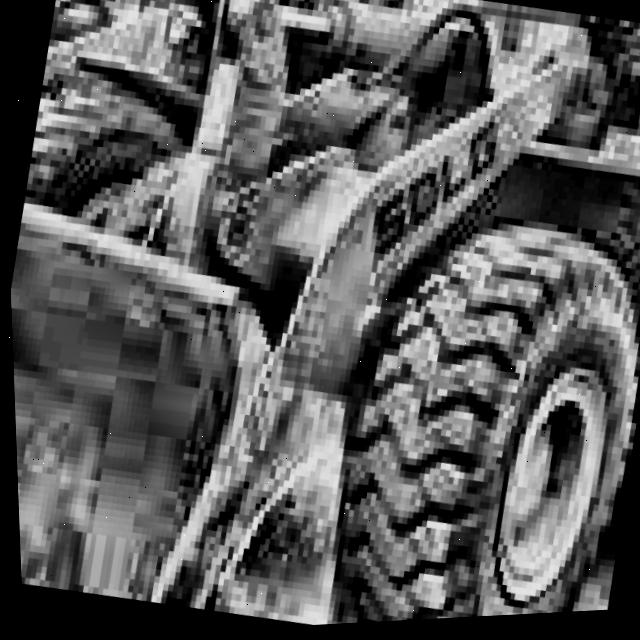buldozerpayloadergrader: (0, 0, 640, 640), (1, 0, 361, 337)
